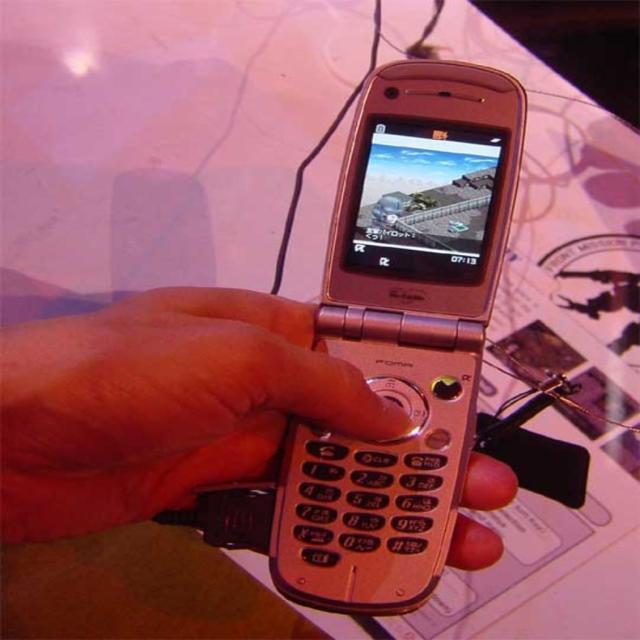Mobile-phone: (201, 41, 538, 610)
